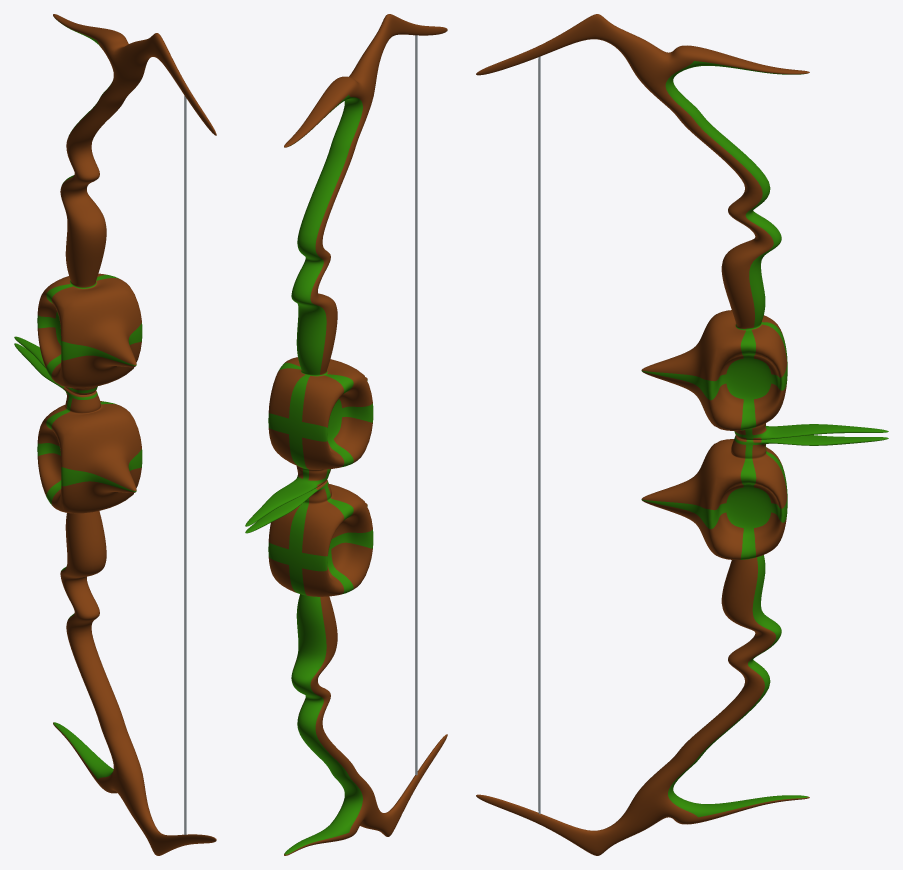
Rendered from BowColorized.fbx.
3 views of the same model, side by side, from view 1: azimuth 30°, elevation 25°; view 2: azimuth 150°, elevation 25°; view 3: azimuth 270°, elevation 25° (orthographic). The views are drawn at different scales.
Visible parts, largest first — view 1: Cube.002; view 2: Cube.002; view 3: Cube.002.
Part boxes in pixels (bbox=[...]): Cube.002: bbox=[14, 14, 216, 855]; Cube.002: bbox=[245, 14, 447, 855]; Cube.002: bbox=[476, 14, 888, 855].
Size of the model in its own units: 81.07 by 791 by 352.
